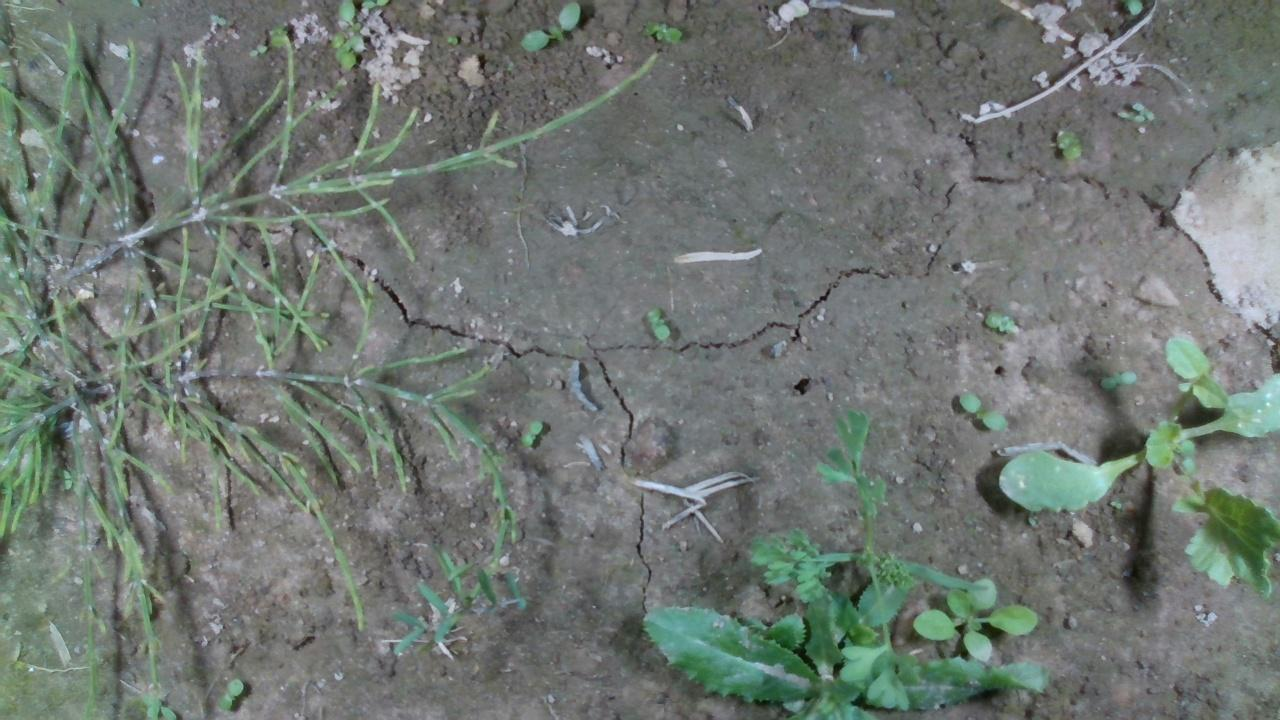weed: (517, 0, 581, 52), (956, 390, 1009, 431), (640, 18, 683, 42), (217, 675, 245, 711), (982, 310, 1020, 334), (644, 305, 670, 339), (1054, 127, 1082, 158), (519, 417, 544, 448), (1100, 368, 1137, 388), (444, 34, 460, 45)
